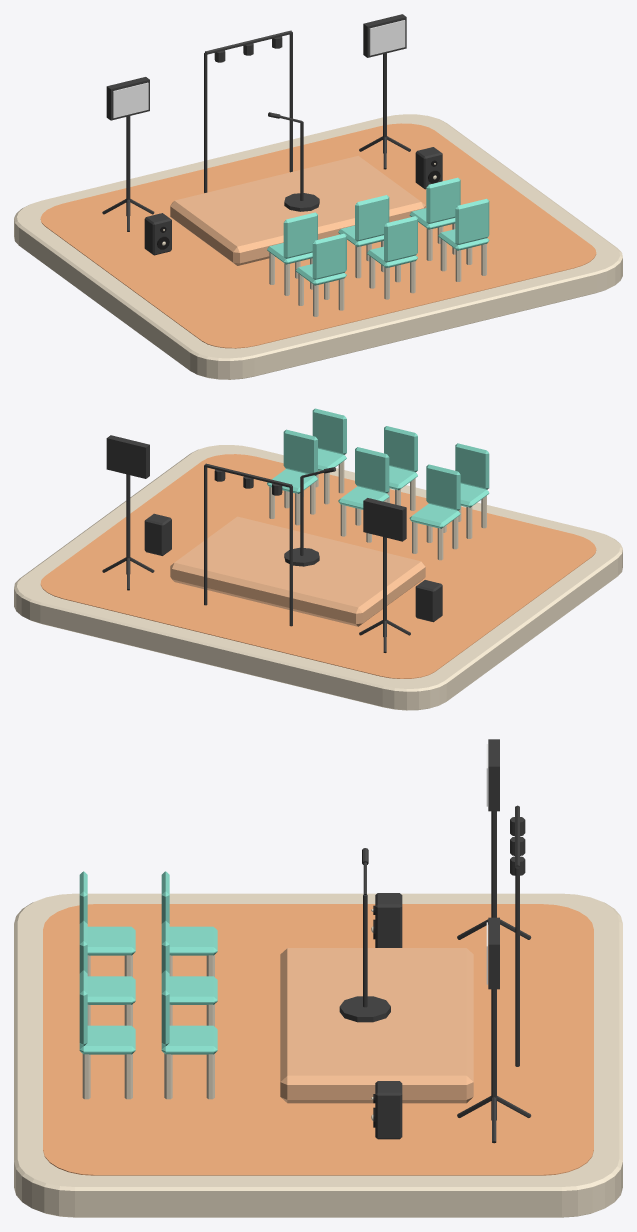
3 renders of one model, top to bottom at view 1: azimuth 30°, elevation 25°; view 2: azimuth 150°, elevation 25°; view 3: azimuth 270°, elevation 25°, orthographic. The views are drawn at different scales.
Visible parts, largest first — view 1: COM-02 Floor Surface, COM-01 Rounded Base Direct, Low stage, Backrest.005, Backrest.003, Backrest.004, Backrest, Backrest.002, Backrest.001, Diffuser.001, Diffuser, Enclosure (+6 smaller); view 2: COM-02 Floor Surface, COM-01 Rounded Base Direct, Low stage, Light panel, Light panel.001, Backrest.001, Backrest, Backrest.002, Backrest.003, Backrest.005, Backrest.004, Enclosure.001 (+11 smaller); view 3: COM-02 Floor Surface, COM-01 Rounded Base Direct, Low stage, Enclosure.001, Enclosure, Seat.002, Seat.005, Seat, Seat.003, Seat.004, Seat.001, Base (+6 smaller).
Part boxes in pixels (x1=…): COM-02 Floor Surface: x1=40, y1=123, x2=596, y2=348; COM-01 Rounded Base Direct: x1=14, y1=114, x2=622, y2=379; Low stage: x1=170, y1=155, x2=425, y2=265; Backrest.005: x1=455, y1=198, x2=489, y2=245; Backrest.003: x1=312, y1=233, x2=346, y2=279; Backrest.004: x1=384, y1=216, x2=417, y2=262; Backrest: x1=283, y1=212, x2=317, y2=258; Backrest.002: x1=426, y1=177, x2=460, y2=223; Backrest.001: x1=355, y1=195, x2=389, y2=241; Diffuser.001: x1=369, y1=20, x2=405, y2=55; Diffuser: x1=113, y1=82, x2=148, y2=118; Enclosure: x1=144, y1=213, x2=171, y2=255; COM-02 Floor Surface: x1=40, y1=454, x2=596, y2=678; COM-01 Rounded Base Direct: x1=14, y1=445, x2=622, y2=710; Low stage: x1=170, y1=516, x2=425, y2=626; Light panel: x1=363, y1=498, x2=406, y2=541; Light panel.001: x1=106, y1=435, x2=149, y2=478; Backrest.001: x1=355, y1=447, x2=389, y2=493; Backrest: x1=426, y1=464, x2=460, y2=510; Backrest.002: x1=283, y1=429, x2=317, y2=475; Backrest.003: x1=455, y1=443, x2=489, y2=489; Backrest.005: x1=312, y1=408, x2=346, y2=454; Backrest.004: x1=384, y1=426, x2=417, y2=472; Enclosure.001: x1=144, y1=513, x2=171, y2=555; COM-02 Floor Surface: x1=43, y1=904, x2=593, y2=1175; COM-01 Rounded Base Direct: x1=14, y1=893, x2=622, y2=1217; Low stage: x1=280, y1=948, x2=473, y2=1103; Enclosure.001: x1=375, y1=1081, x2=402, y2=1139; Enclosure: x1=375, y1=893, x2=402, y2=947; Seat.002: x1=161, y1=1025, x2=217, y2=1054; Seat.005: x1=79, y1=1025, x2=135, y2=1054; Seat: x1=169, y1=926, x2=217, y2=955; Seat.003: x1=87, y1=926, x2=135, y2=955; Seat.004: x1=87, y1=976, x2=135, y2=1004; Seat.001: x1=169, y1=976, x2=217, y2=1004; Base: x1=339, y1=996, x2=390, y2=1022.
Bounding box in the file's own units: 6 × 2.22 × 5.2.
1 material, 1 textured.
